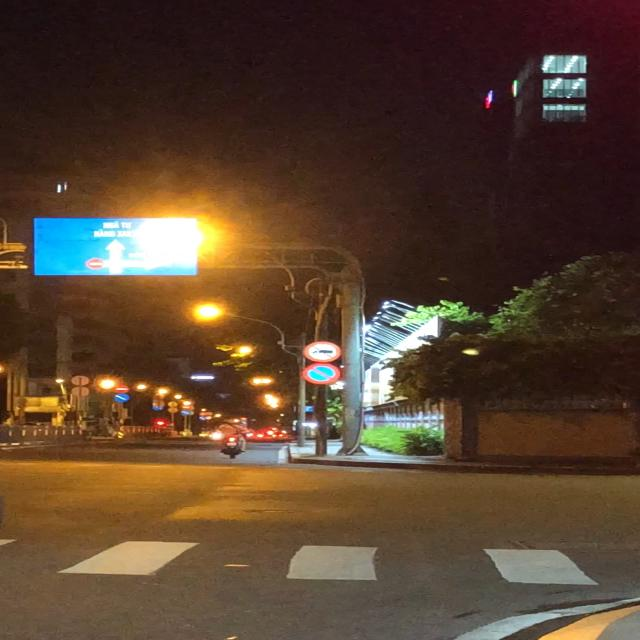Bien bao cam do xe: (298, 362, 346, 386)
Bien bao cam xe so-mi ro-mooc: (298, 339, 342, 362)
